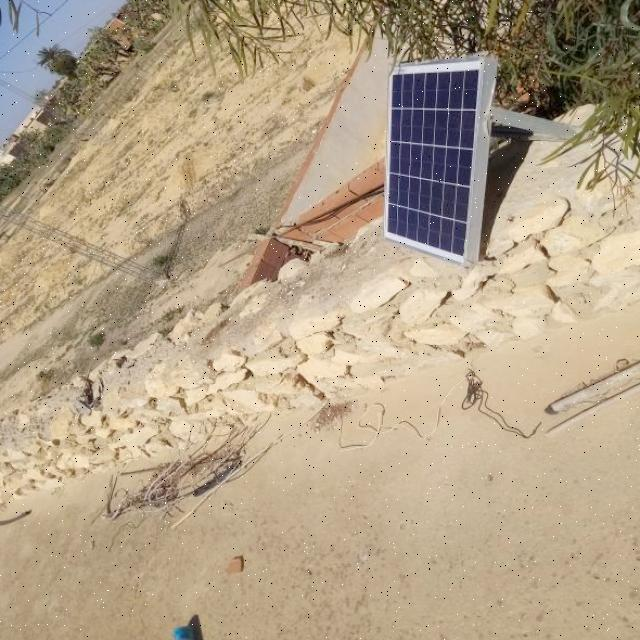Normal Solar Panel: (384, 58, 482, 266)
